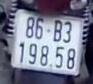1: (17, 40, 26, 64)
3: (64, 19, 73, 45)
5: (54, 45, 66, 72)
6: (35, 17, 45, 40)
8: (65, 45, 76, 71), (39, 43, 49, 69), (24, 16, 34, 39)
9: (28, 40, 38, 66)
B: (52, 18, 63, 44)
